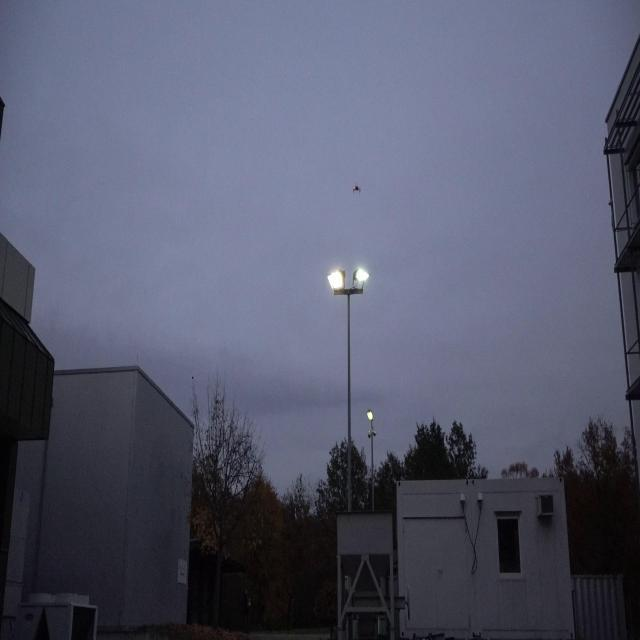drone: (351, 178, 364, 195)
